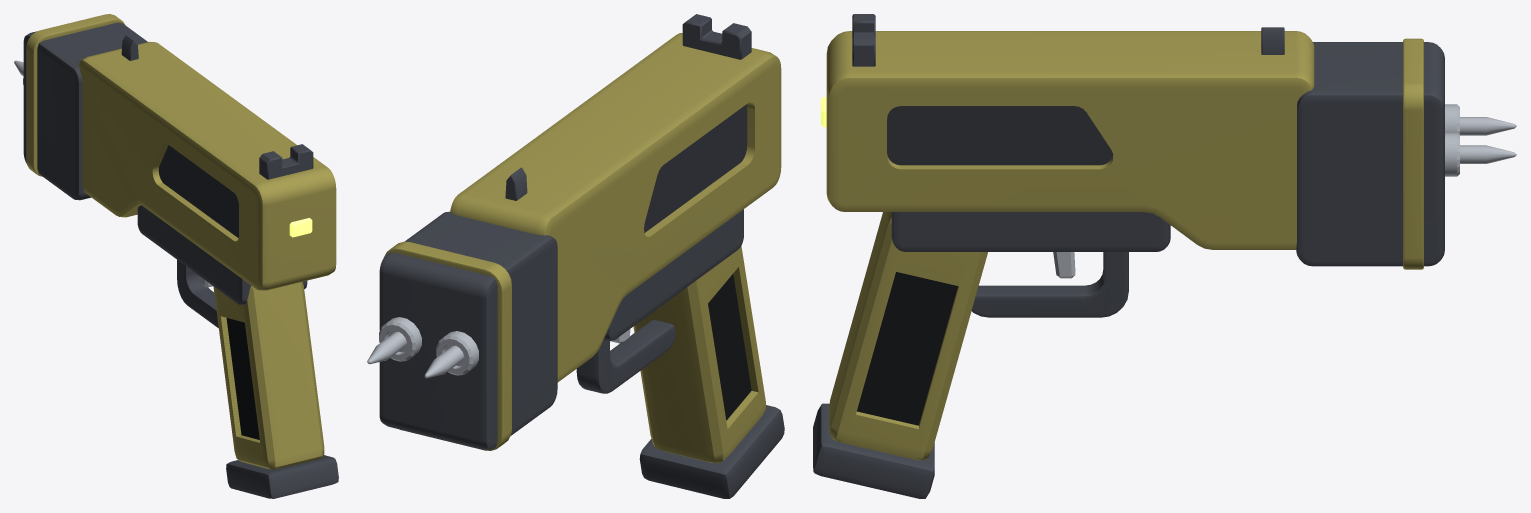
Rendered from w_taser.glb.
3 renders of one model, left to right at view 1: azimuth 30°, elevation 25°; view 2: azimuth 150°, elevation 25°; view 3: azimuth 270°, elevation 25°, orthographic. The views are drawn at different scales.
Visible parts, largest first — view 1: body_wzA, grip_wzA, cart_wzB, body_wzN, batt_wzB, lower_wzB, cart_wzN.001, grip_wzN, sight_wzN, guard_wzB, led_wzN; view 2: body_wzA, cart_wzB, grip_wzA, batt_wzB, body_wzN, lower_wzB, cart_wzN.001, guard_wzB, grip_wzN, sight_wzN, cart_wzN, prong_wzN; view 3: body_wzA, cart_wzB, grip_wzA, body_wzN, lower_wzB, grip_wzN, guard_wzB, batt_wzB, cart_wzN.001, sight_wzN, prong_wzN, cart_wzN.
Part boxes in pixels (left/top/right/bottom): body_wzA: left=78, top=41, right=336, bottom=290; grip_wzA: left=213, top=282, right=324, bottom=469; cart_wzB: left=23, top=22, right=147, bottom=200; body_wzN: left=158, top=145, right=238, bottom=237; batt_wzB: left=226, top=455, right=338, bottom=498; lower_wzB: left=137, top=205, right=307, bottom=304; cart_wzN.001: left=26, top=14, right=124, bottom=176; grip_wzN: left=226, top=318, right=259, bottom=439; sight_wzN: left=121, top=35, right=313, bottom=179; guard_wzB: left=177, top=260, right=218, bottom=328; led_wzN: left=289, top=218, right=312, bottom=237; body_wzA: left=450, top=33, right=781, bottom=382; cart_wzB: left=379, top=211, right=557, bottom=449; grip_wzA: left=633, top=246, right=765, bottom=463; batt_wzB: left=639, top=405, right=784, bottom=498; body_wzN: left=644, top=104, right=747, bottom=232; lower_wzB: left=603, top=209, right=743, bottom=340; cart_wzN.001: left=383, top=241, right=511, bottom=450; guard_wzB: left=576, top=320, right=676, bottom=393; grip_wzN: left=708, top=274, right=751, bottom=420; sight_wzN: left=505, top=14, right=751, bottom=200; cart_wzN: left=379, top=317, right=478, bottom=375; prong_wzN: left=367, top=332, right=464, bottom=378; body_wzA: left=826, top=31, right=1314, bottom=249; cart_wzB: left=1296, top=42, right=1444, bottom=266; grip_wzA: left=829, top=212, right=987, bottom=460; body_wzN: left=887, top=106, right=1113, bottom=165; lower_wzB: left=891, top=212, right=1170, bottom=251; grip_wzN: left=857, top=272, right=957, bottom=425; guard_wzB: left=971, top=252, right=1128, bottom=317; batt_wzB: left=813, top=403, right=934, bottom=498; cart_wzN.001: left=1403, top=38, right=1423, bottom=269; sight_wzN: left=852, top=14, right=1284, bottom=66; prong_wzN: left=1460, top=117, right=1516, bottom=163; cart_wzN: left=1445, top=104, right=1459, bottom=176.
Size of the model in its own units: 0.061 by 0.2147 by 0.3029.
